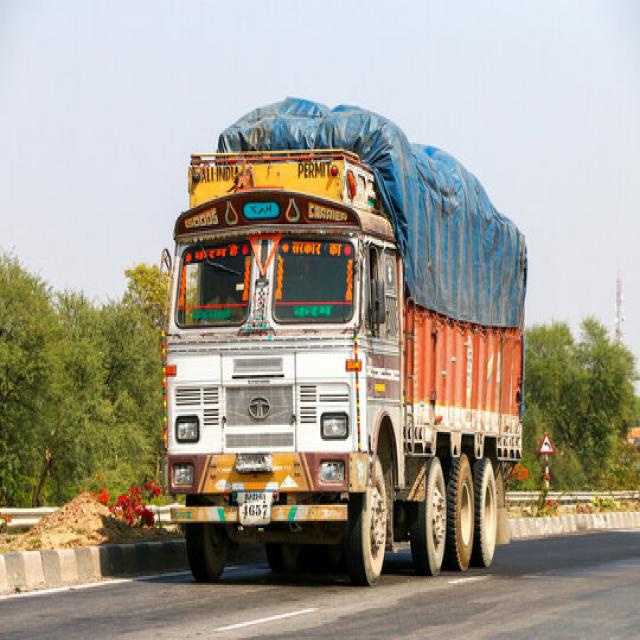Truck: (167, 110, 528, 578)
